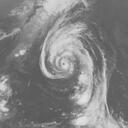cyclone: (38, 20, 117, 127)
